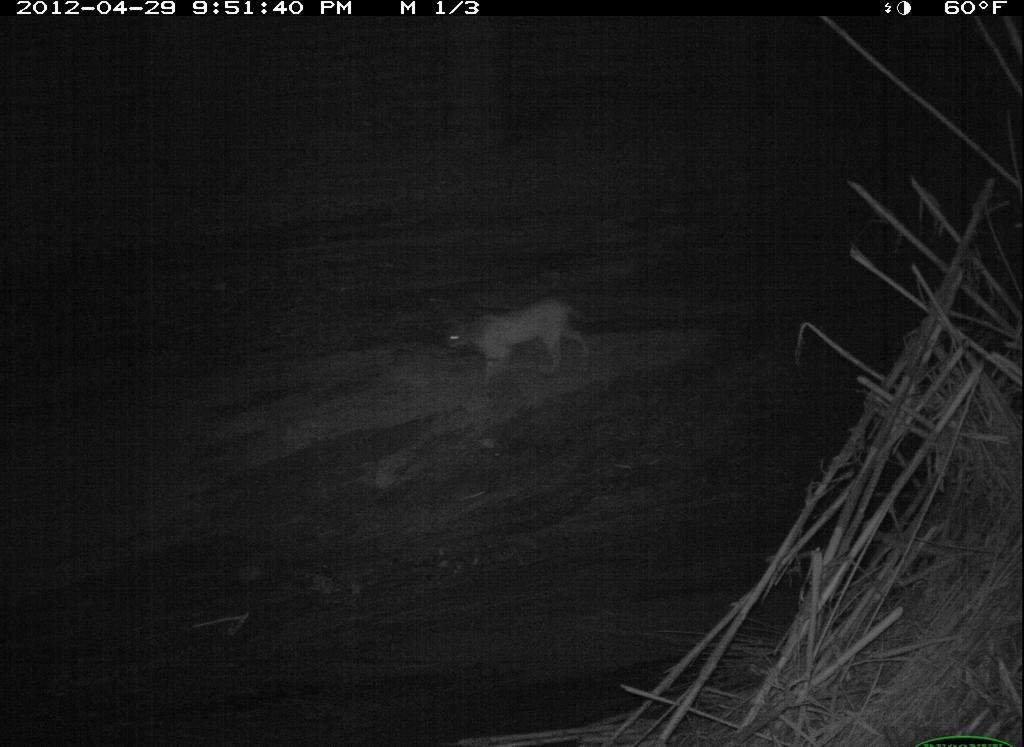bobcat: (433, 292, 607, 391)
